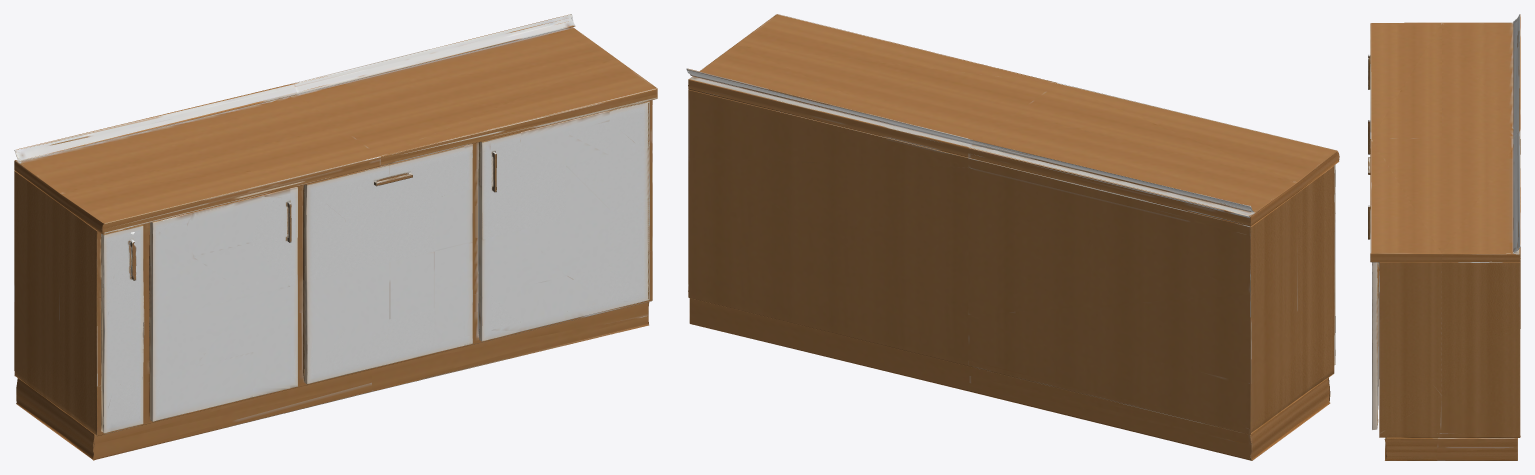
The model's file is Meshy_AI_Wooden_Office_Credenz_1020124304_texture.glb.
3 views of the same model, side by side, from view 1: azimuth 30°, elevation 25°; view 2: azimuth 150°, elevation 25°; view 3: azimuth 270°, elevation 25° (orthographic). The views are drawn at different scales.
Size of the model in its own units: 0.957 by 0.4155 by 0.2661.
Materials: 1 (1 with a texture image).
